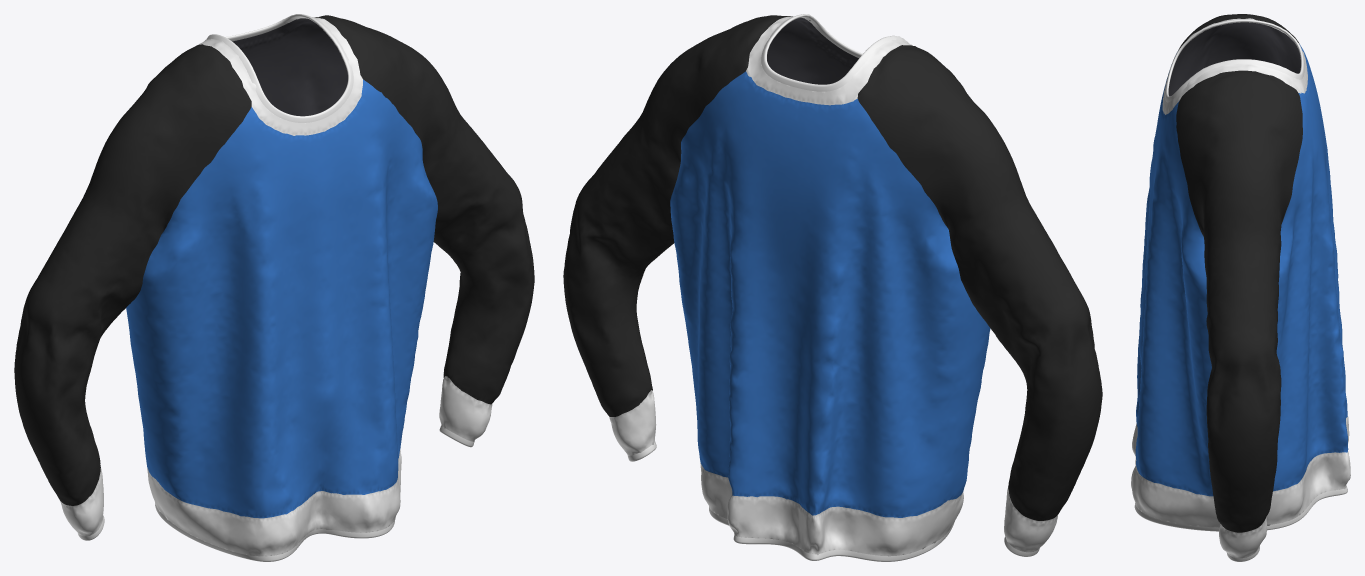
File: tempo.glb
3 renders of one model, left to right at view 1: azimuth 30°, elevation 25°; view 2: azimuth 150°, elevation 25°; view 3: azimuth 270°, elevation 25°, orthographic. The views are drawn at different scales.
Visible parts, largest first — view 1: Jersey; view 2: Jersey; view 3: Jersey.
Part boxes in pixels (x1,y1,x2,y2): Jersey: (14,14,534,561); Jersey: (563,14,1102,561); Jersey: (1131,14,1350,561).
Bounding box in the file's own units: 3.08 × 2.76 × 1.22.
